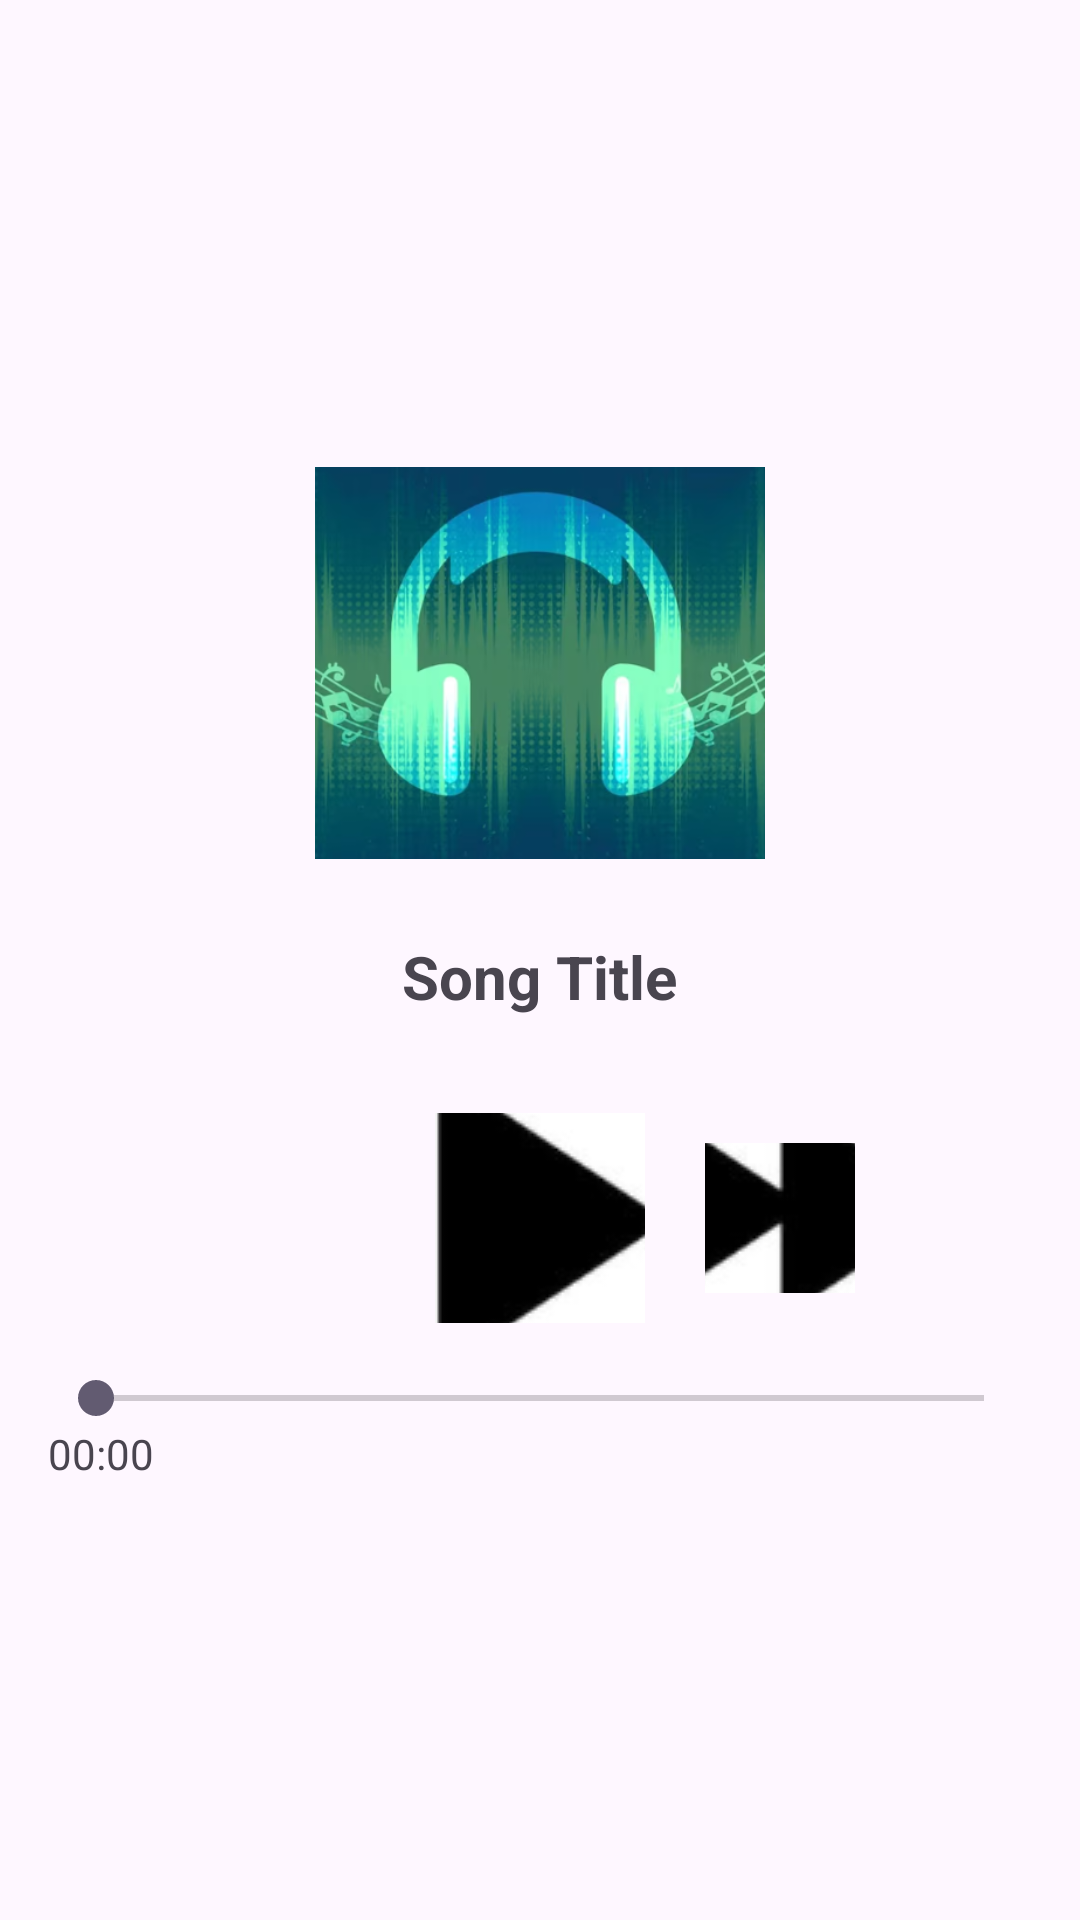

Named icons in this screenshot (1080x1920) and their centers, point (x, y):
next: point (780, 1218)
play: point (541, 1218)
